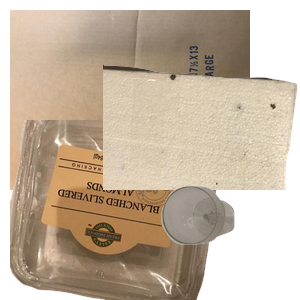cardboard: (10, 10, 250, 190)
glass: (159, 184, 300, 300)
plastic: (10, 120, 227, 300)
trash: (103, 62, 300, 242)
